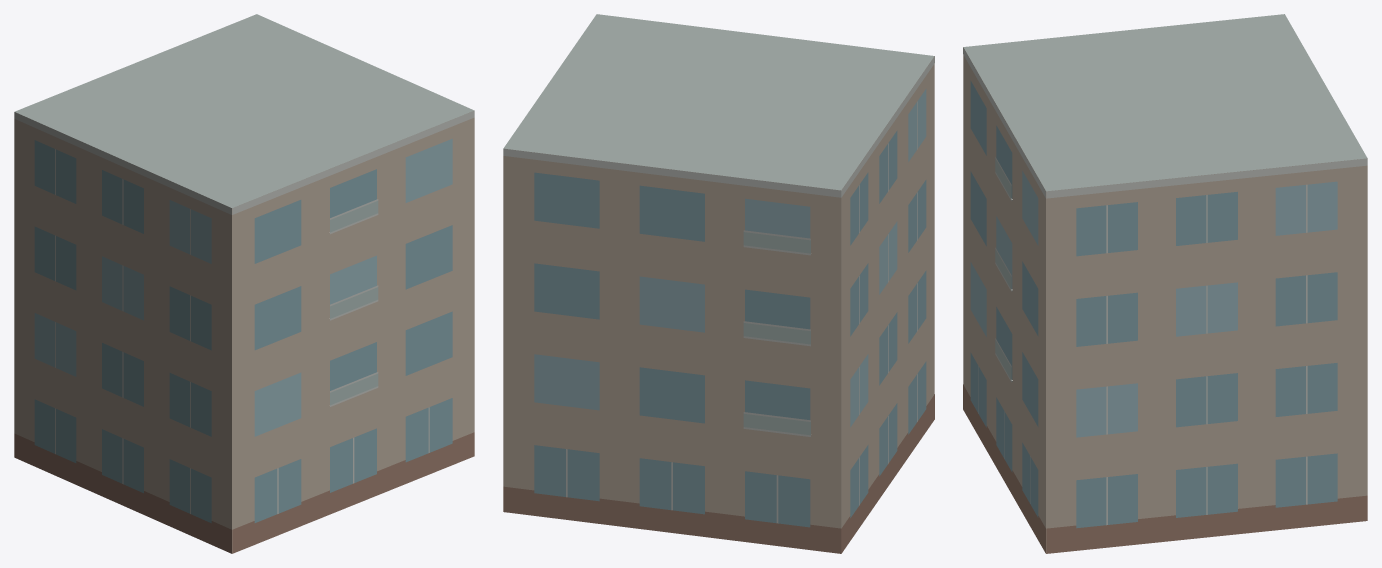
File: residential-b26fe69e-9d58-4a15-9364-3c8ecab25679.glb
3 views of the same model, side by side, from view 1: azimuth 30°, elevation 25°; view 2: azimuth 150°, elevation 25°; view 3: azimuth 270°, elevation 25° (orthographic). The views are drawn at different scales.
Visible parts, largest first — view 1: residential-b26fe69e-9d58-4a15-9364-3c8ecab25679.tmp; view 2: residential-b26fe69e-9d58-4a15-9364-3c8ecab25679.tmp; view 3: residential-b26fe69e-9d58-4a15-9364-3c8ecab25679.tmp.
Boxes of the visible parts, box(x1,y1,x2,y2) form: residential-b26fe69e-9d58-4a15-9364-3c8ecab25679.tmp: box(14, 14, 474, 553); residential-b26fe69e-9d58-4a15-9364-3c8ecab25679.tmp: box(503, 14, 934, 553); residential-b26fe69e-9d58-4a15-9364-3c8ecab25679.tmp: box(963, 14, 1367, 553).
Bounding box in the file's own units: 12.81 × 12.2 × 12.35.
